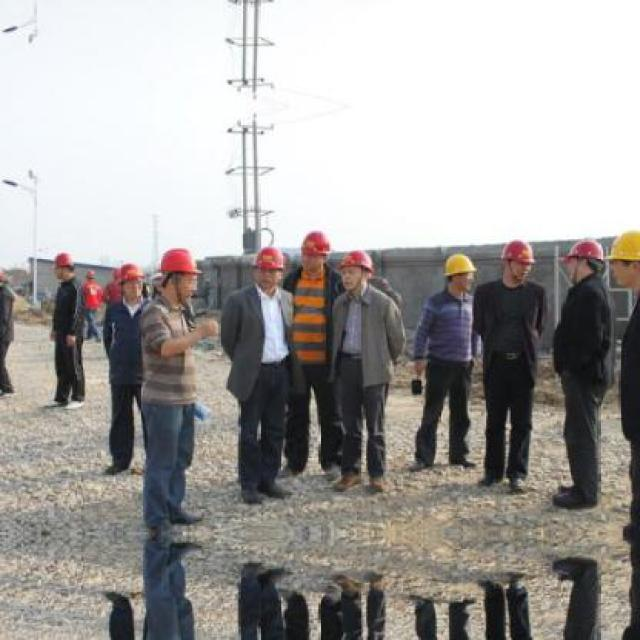helmet: (156, 244, 201, 304), (608, 223, 638, 291), (564, 236, 602, 284), (338, 246, 373, 292), (442, 251, 476, 296), (498, 238, 532, 282), (253, 242, 284, 290), (300, 226, 331, 269), (115, 258, 143, 299), (54, 249, 75, 283)
